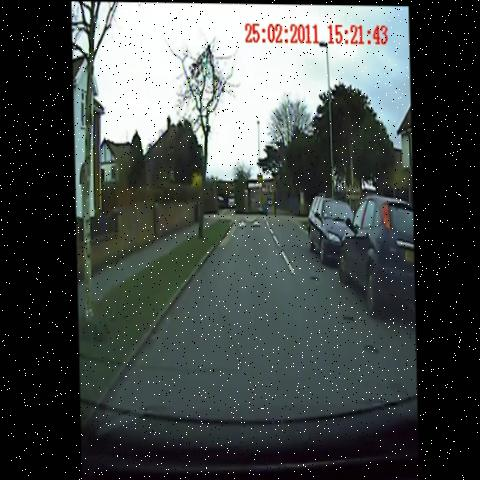pothole: (355, 336, 386, 364), (334, 300, 359, 329), (307, 272, 326, 286)
